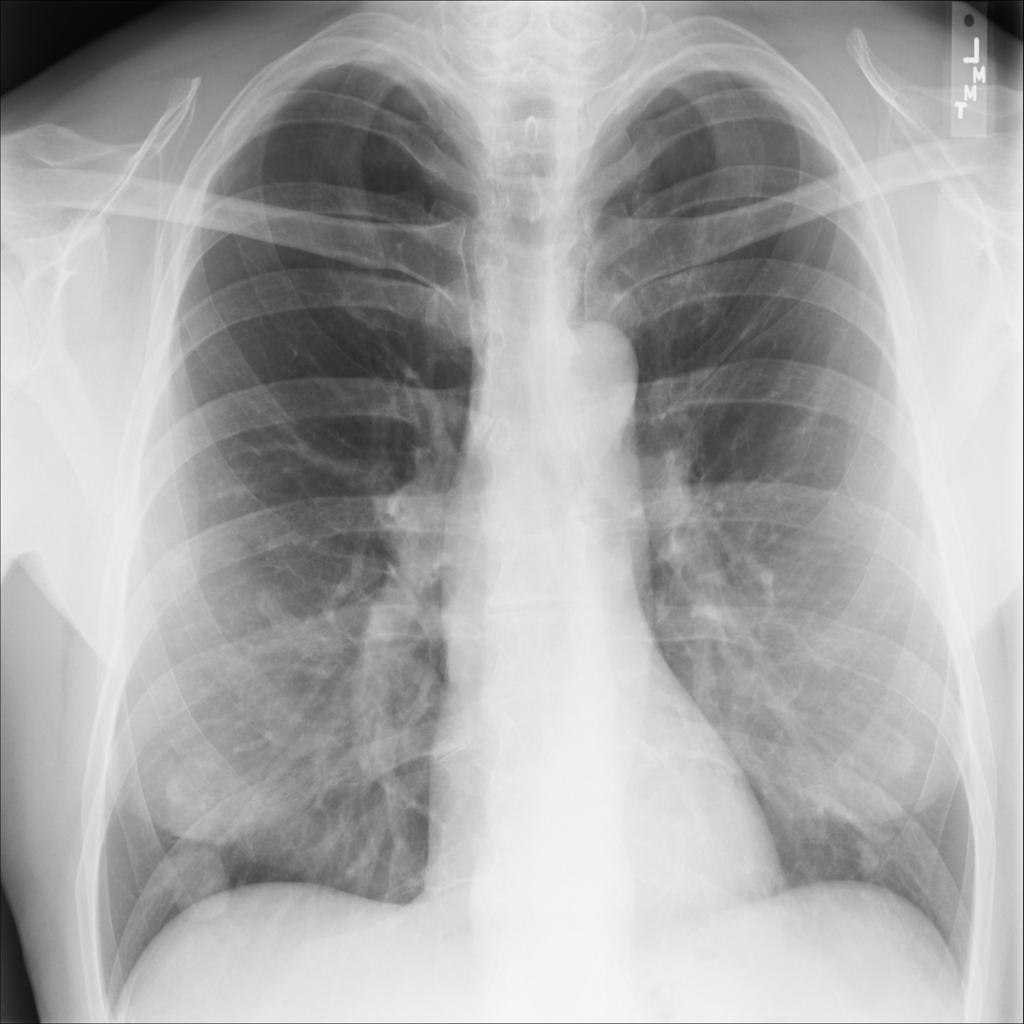nodule: (147, 823, 250, 932), (844, 826, 894, 880)
